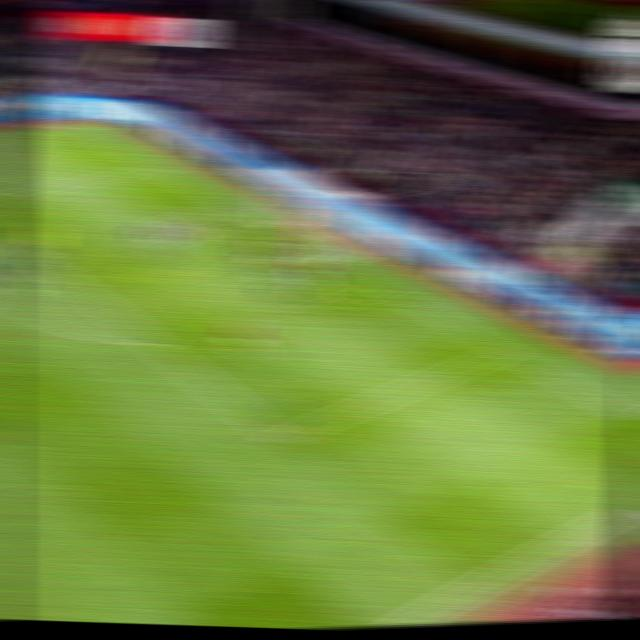bigarea_bottom_inner: (265, 428, 297, 445)
bigarea_bottom_outter: (489, 343, 518, 357)
bigarea_top_outter: (142, 163, 169, 173)
bottom_arc_area_intersection: (136, 333, 170, 353)
corner: (62, 120, 92, 130)
smallarea_bottom_inner: (306, 298, 336, 315)
smallarea_bottom_outter: (368, 278, 397, 294)
smallarea_top_inner: (154, 213, 183, 227)
smallarea_top_outter: (214, 200, 241, 212)
top_arc_area_intersection: (22, 250, 49, 262)
